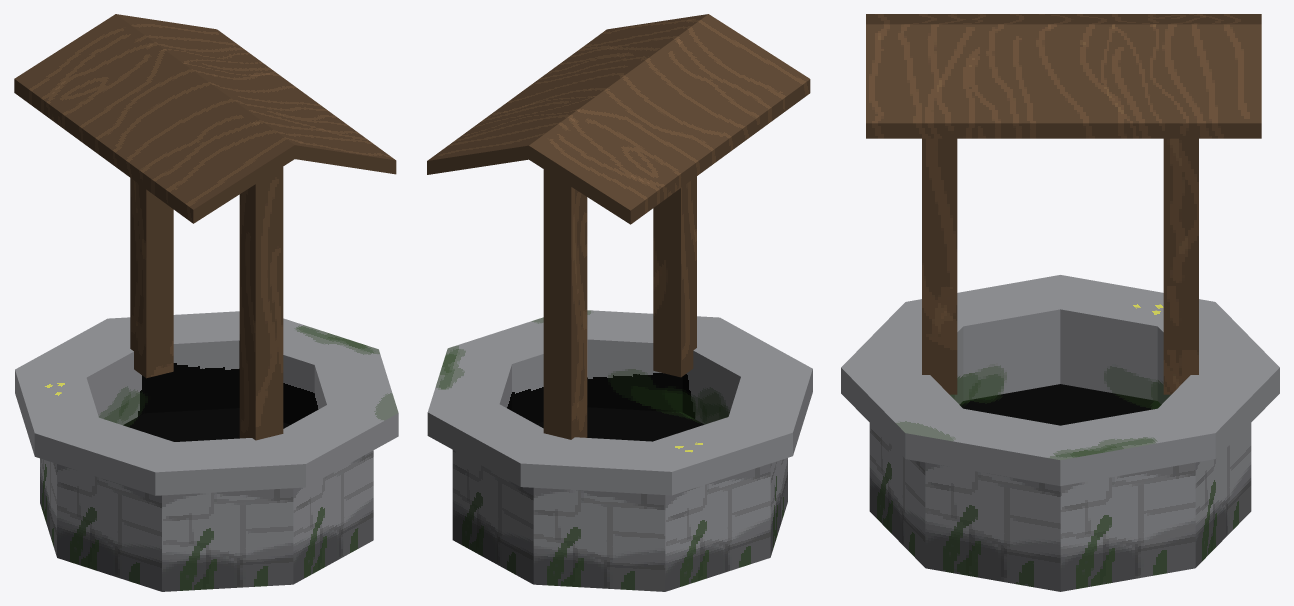
File: well.glb
3 views of the same model, side by side, from view 1: azimuth 30°, elevation 25°; view 2: azimuth 150°, elevation 25°; view 3: azimuth 270°, elevation 25° (orthographic). The views are drawn at different scales.
Visible parts, largest first — view 1: Cube.024; view 2: Cube.024; view 3: Cube.024.
Part boxes in pixels (left/top/right/bottom): Cube.024: left=14, top=14, right=398, bottom=591; Cube.024: left=427, top=14, right=812, bottom=591; Cube.024: left=841, top=14, right=1279, bottom=591.
Bounding box in the file's own units: 0.8863 × 1.09 × 0.8863.
Materials: 1 (1 with a texture image).
